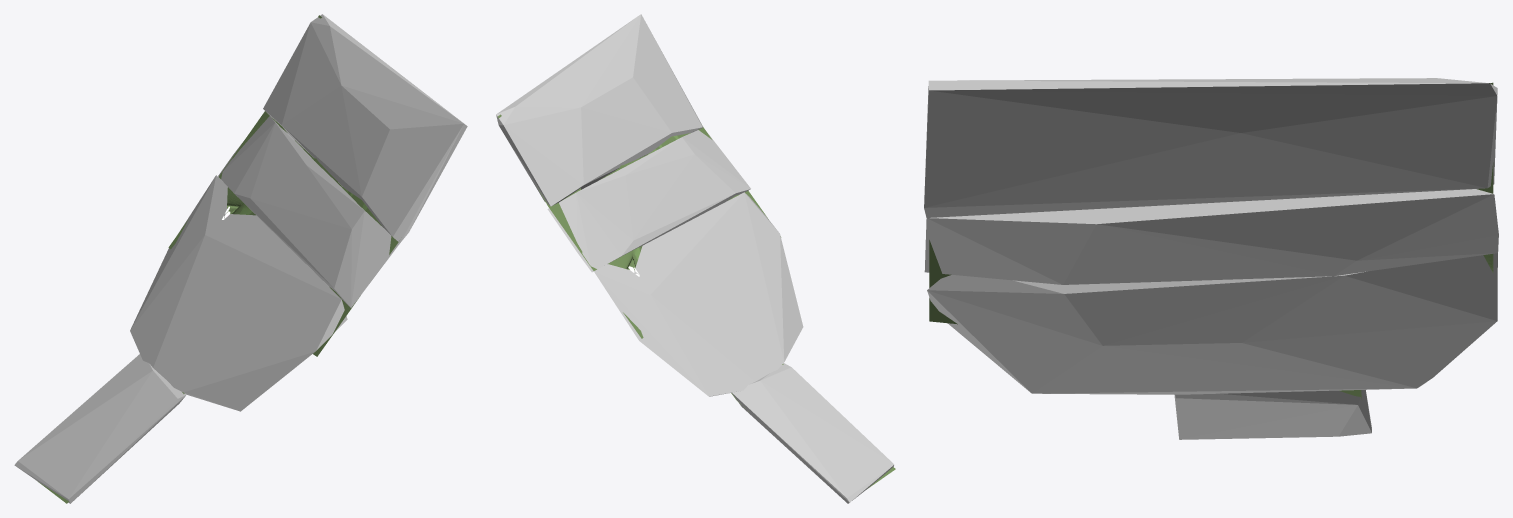
File: SM_Env_Vines_Preset_Roof_Concave_03.fbx
3 renders of one model, left to right at view 1: azimuth 30°, elevation 25°; view 2: azimuth 150°, elevation 25°; view 3: azimuth 270°, elevation 25°, orthographic. The views are drawn at different scales.
Visible parts, largest first — view 1: SM_Env_Vines_Preset_Roof_Concave_03_ConvexHulls, SM_Env_Vines_Preset_Roof_Concave_03; view 2: SM_Env_Vines_Preset_Roof_Concave_03_ConvexHulls, SM_Env_Vines_Preset_Roof_Concave_03; view 3: SM_Env_Vines_Preset_Roof_Concave_03_ConvexHulls, SM_Env_Vines_Preset_Roof_Concave_03.
Part boxes in pixels (<box>): SM_Env_Vines_Preset_Roof_Concave_03_ConvexHulls: <box>14,14,467,503</box>; SM_Env_Vines_Preset_Roof_Concave_03: <box>37,15,399,503</box>; SM_Env_Vines_Preset_Roof_Concave_03_ConvexHulls: <box>496,14,894,503</box>; SM_Env_Vines_Preset_Roof_Concave_03: <box>497,114,895,488</box>; SM_Env_Vines_Preset_Roof_Concave_03_ConvexHulls: <box>924,78,1498,439</box>; SM_Env_Vines_Preset_Roof_Concave_03: <box>929,82,1493,399</box>.
Bounding box in the file's own units: 205 × 158 × 202.
Materials: 3 (2 with a texture image).
